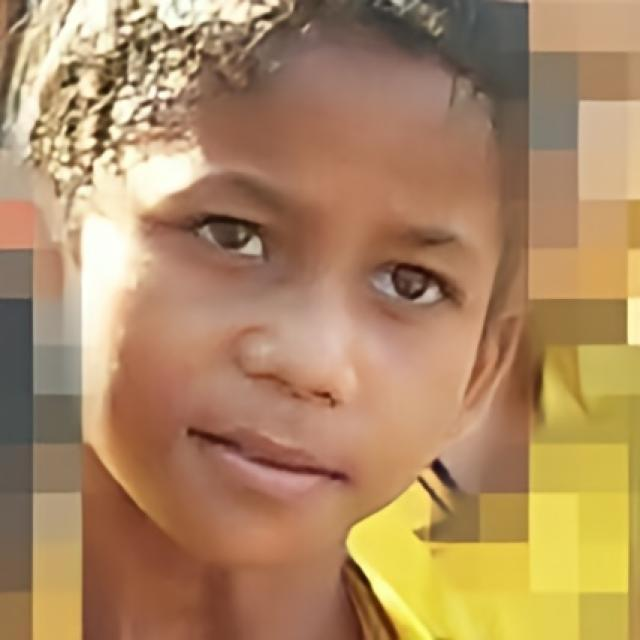neutral: (80, 19, 507, 576)
